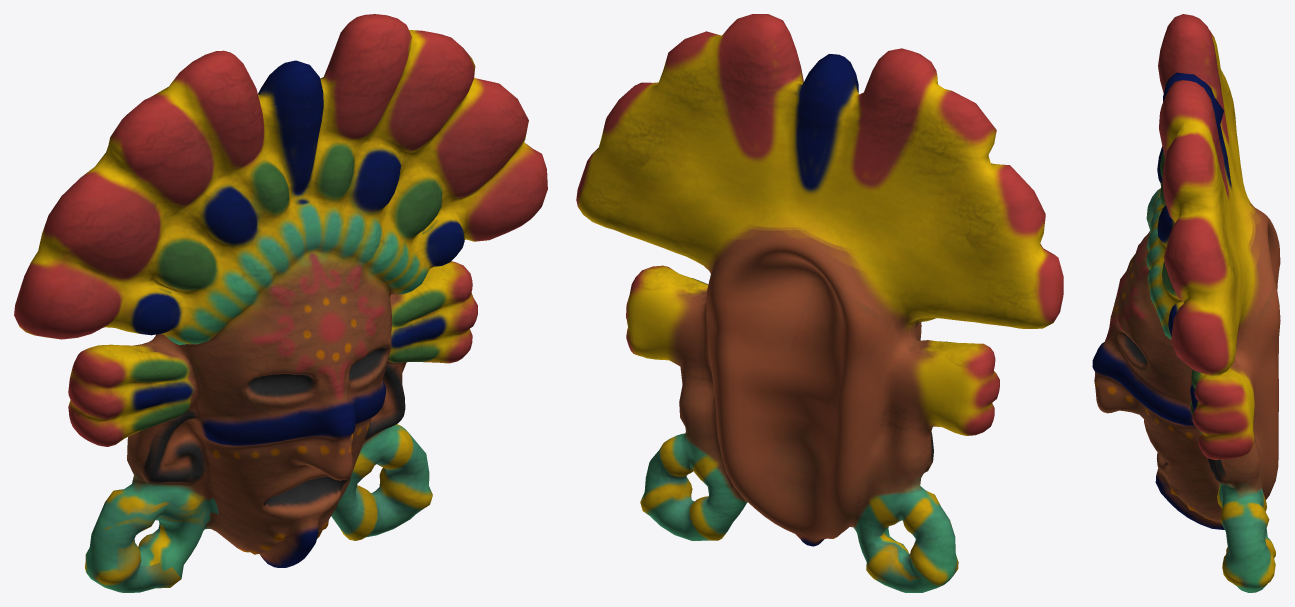
The model's file is modelo.glb.
The picture shows the model from 3 angles, left to right: view 1: azimuth 30°, elevation 25°; view 2: azimuth 150°, elevation 25°; view 3: azimuth 270°, elevation 25°; orthographic projection. The views are drawn at different scales.
Visible parts, largest first — view 1: Group9416; view 2: Group9416; view 3: Group9416.
Part boxes in pixels (x1,y1,x2,y2): Group9416: (14,14,547,592); Group9416: (576,14,1063,592); Group9416: (1092,14,1280,592).
Size of the model in its own units: 27.49 by 27.82 by 9.74.
1 material, 1 textured.
